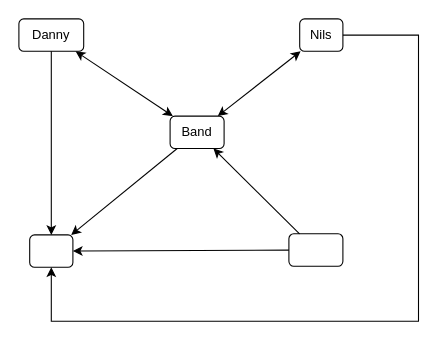
The diagram is 446 pixels wide and 349 high, and some of its shapes have lost their labels. Here are the shapes that lost their labels. From the top down, the centre of each, then its label:
At point 51,250: "Elif".
At point 315,249: "Gina".
